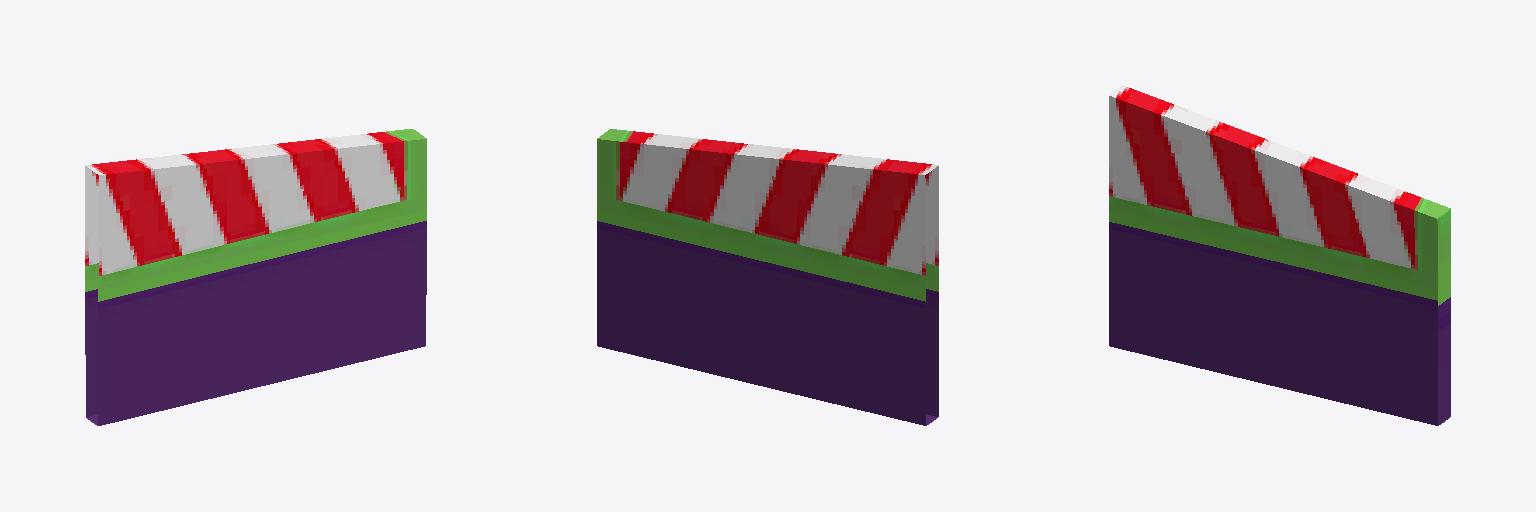
3 views of the same model, side by side, from view 1: azimuth 30°, elevation 25°; view 2: azimuth 150°, elevation 25°; view 3: azimuth 330°, elevation 25° (orthographic).
Visible parts, largest first — view 1: buzzlightyLeftWing1_buzzlighty.015; view 2: buzzlightyLeftWing1_buzzlighty.015; view 3: buzzlightyLeftWing1_buzzlighty.015.
Part boxes in pixels (left/top/right/bottom): buzzlightyLeftWing1_buzzlighty.015: left=85, top=129, right=426, bottom=425; buzzlightyLeftWing1_buzzlighty.015: left=597, top=129, right=938, bottom=425; buzzlightyLeftWing1_buzzlighty.015: left=1109, top=85, right=1450, bottom=425.
Bounding box in the file's own units: 0.2634 × 0.1928 × 0.0199.
Materials: 1 (1 with a texture image).